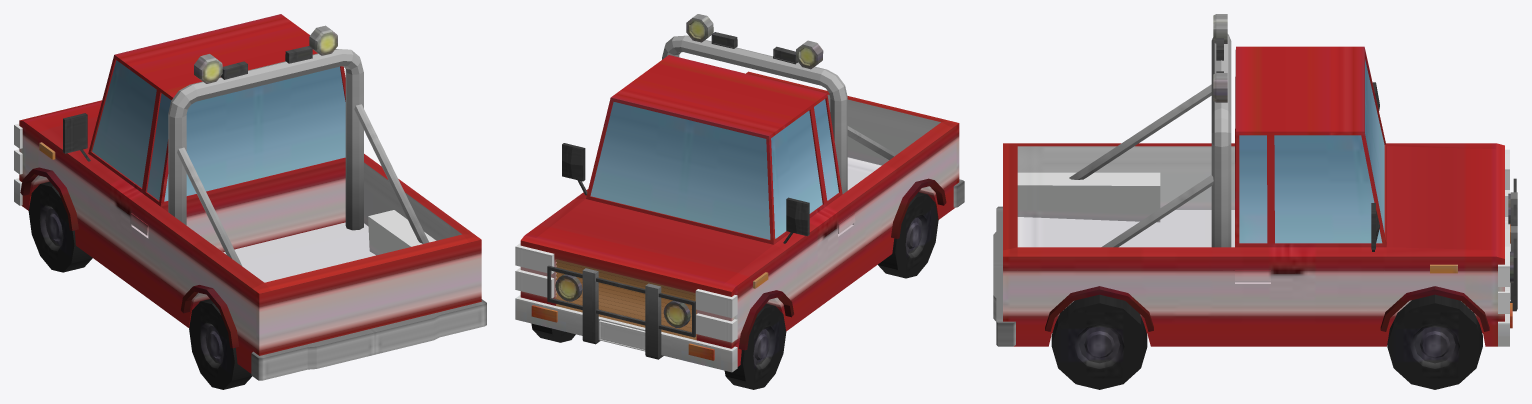
Rendered from jeep.fbx.
3 renders of one model, left to right at view 1: azimuth 30°, elevation 25°; view 2: azimuth 150°, elevation 25°; view 3: azimuth 270°, elevation 25°, orthographic. The views are drawn at different scales.
Visible parts, largest first — view 1: new_car_03.003, new_car_03.002, new_car_03.001; view 2: new_car_03.003, new_car_03.001, new_car_03.002; view 3: new_car_03.003, new_car_03.002, new_car_03.001.
Part boxes in pixels (x1,y1,x2,y2): new_car_03.003: (14,14,486,380); new_car_03.002: (189,299,252,389); new_car_03.001: (28,181,92,272); new_car_03.003: (515,14,964,372); new_car_03.001: (531,303,786,389); new_car_03.002: (878,192,938,278); new_car_03.003: (993,14,1517,346); new_car_03.002: (1051,294,1147,389); new_car_03.001: (1387,294,1482,389).
Bounding box in the file's own units: 79.81 × 80.77 × 134.
